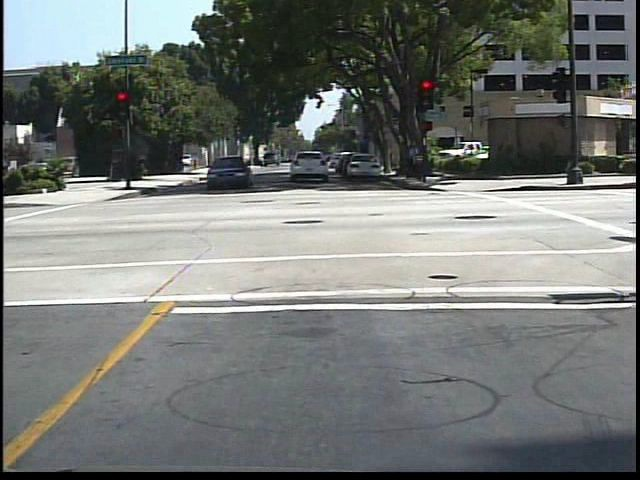person: (405, 137, 423, 183)
